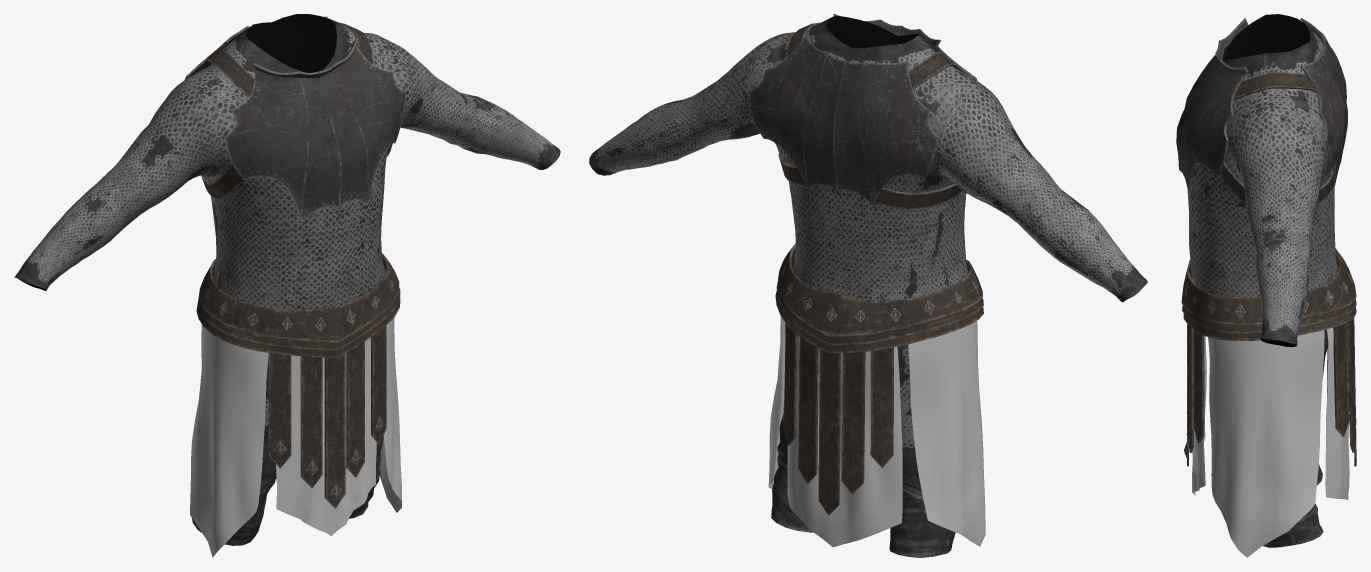
File: sk_uruk_mordor_chainmail_medium_b1.fbx
3 renders of one model, left to right at view 1: azimuth 30°, elevation 25°; view 2: azimuth 150°, elevation 25°; view 3: azimuth 270°, elevation 25°, orthographic. The views are drawn at different scales.
Parts seen in each view (by area): view 1: sk_uruk_mordor_chainmail_medium_b1.0, sk_uruk_mordor_chainmail_medium_b1.1, sk_uruk_mordor_chainmail_medium_b1.2, sk_uruk_mordor_chainmail_medium_b1.3; view 2: sk_uruk_mordor_chainmail_medium_b1.0, sk_uruk_mordor_chainmail_medium_b1.1, sk_uruk_mordor_chainmail_medium_b1.2, sk_uruk_mordor_chainmail_medium_b1.3; view 3: sk_uruk_mordor_chainmail_medium_b1.0, sk_uruk_mordor_chainmail_medium_b1.2, sk_uruk_mordor_chainmail_medium_b1.1, sk_uruk_mordor_chainmail_medium_b1.3.
Part boxes in pixels (x1,y1,x2,y2): sk_uruk_mordor_chainmail_medium_b1.0: (14, 14, 560, 545); sk_uruk_mordor_chainmail_medium_b1.1: (196, 23, 400, 508); sk_uruk_mordor_chainmail_medium_b1.2: (190, 318, 401, 557); sk_uruk_mordor_chainmail_medium_b1.3: (184, 16, 406, 220); sk_uruk_mordor_chainmail_medium_b1.0: (589, 15, 1147, 557); sk_uruk_mordor_chainmail_medium_b1.1: (775, 22, 983, 515); sk_uruk_mordor_chainmail_medium_b1.2: (768, 316, 985, 547); sk_uruk_mordor_chainmail_medium_b1.3: (749, 14, 977, 204); sk_uruk_mordor_chainmail_medium_b1.0: (1187, 14, 1337, 547); sk_uruk_mordor_chainmail_medium_b1.2: (1192, 278, 1349, 557); sk_uruk_mordor_chainmail_medium_b1.1: (1181, 72, 1356, 466); sk_uruk_mordor_chainmail_medium_b1.3: (1176, 18, 1347, 195).
Size of the model in its own units: 1.37 by 0.4093 by 1.21.
